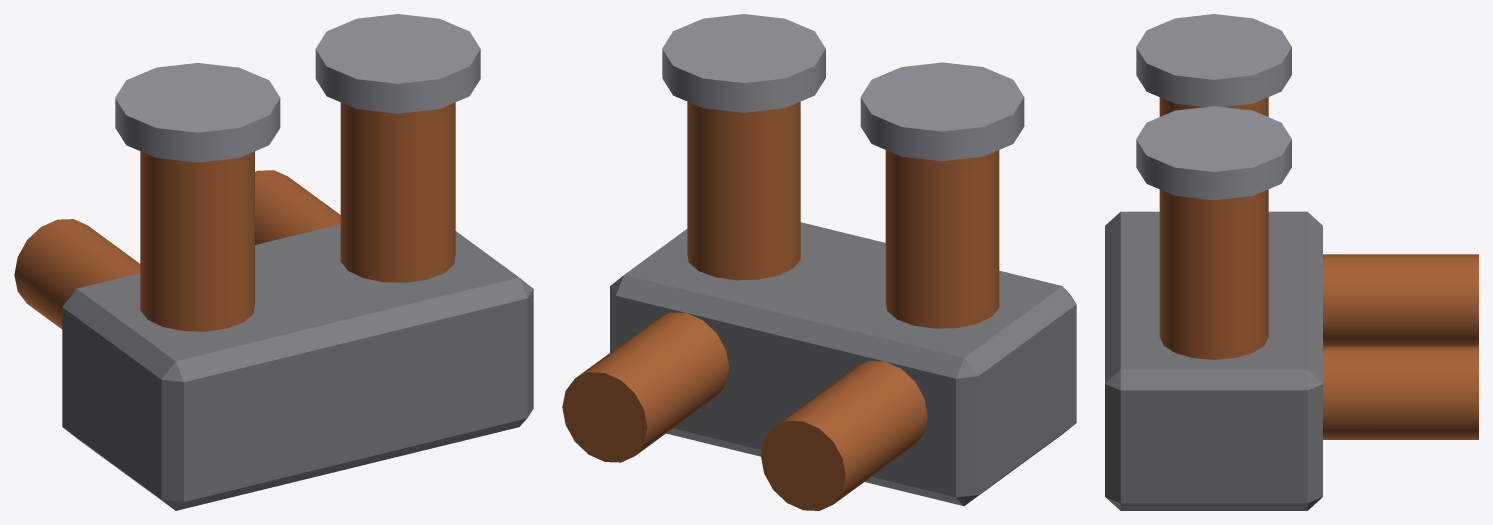
Rendered from sr150_emergency_coolant.obj.
3 renders of one model, left to right at view 1: azimuth 30°, elevation 25°; view 2: azimuth 150°, elevation 25°; view 3: azimuth 270°, elevation 25°, orthographic. The views are drawn at different scales.
Parts seen in each view (by area): view 1: sr150_emergency_coolant; view 2: sr150_emergency_coolant; view 3: sr150_emergency_coolant.
Boxes of the visible parts, bbox=[...] form: sr150_emergency_coolant: bbox=[14, 14, 533, 510]; sr150_emergency_coolant: bbox=[562, 14, 1076, 510]; sr150_emergency_coolant: bbox=[1105, 14, 1478, 510].
Size of the model in its own units: 0.26 by 0.24 by 0.24.
